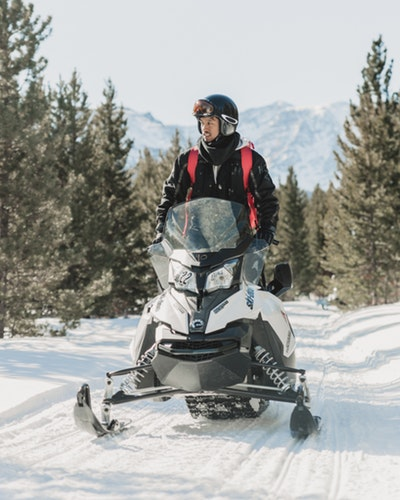helmet: (187, 87, 248, 162)
